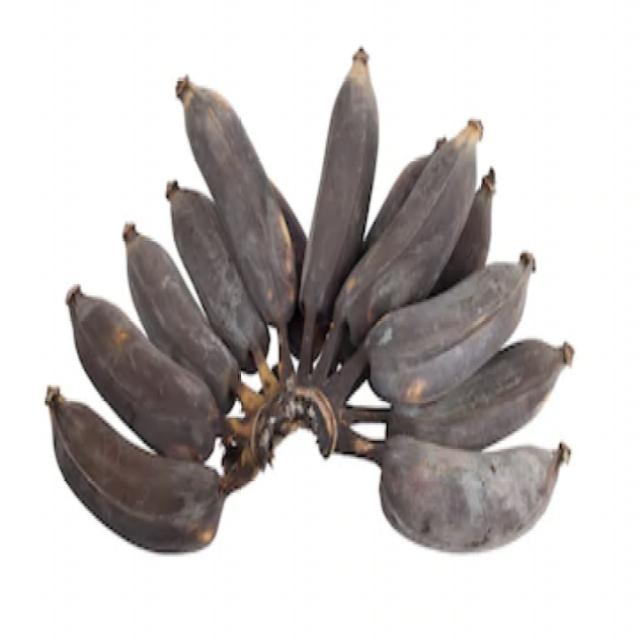rotten-banana: (348, 130, 481, 330), (207, 72, 289, 336), (62, 317, 220, 447), (300, 58, 382, 308), (374, 266, 535, 390), (385, 438, 570, 538), (58, 441, 217, 550), (113, 209, 220, 354), (412, 342, 576, 436), (167, 182, 251, 314)
